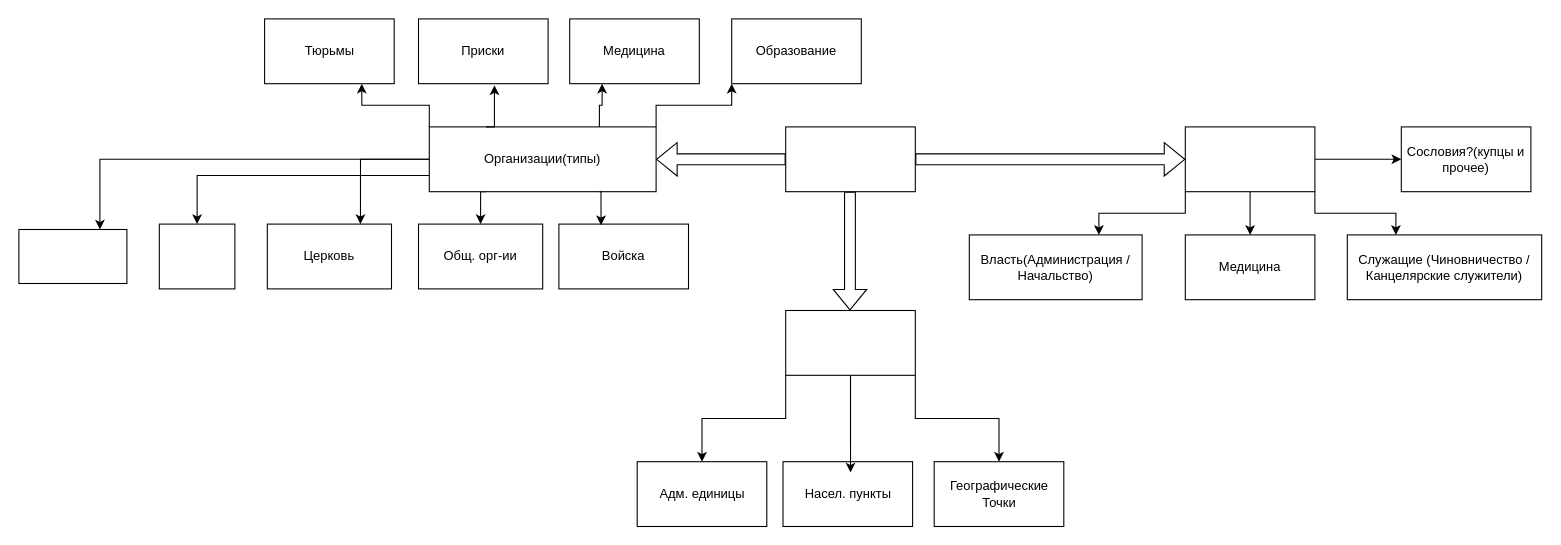
Image size: 1561x545. Some labels were removed from this diagram. Here are the shapes that lost their labels. From the top down, the box of each, then its label:
(785, 126, 915, 192): сущности
(1184, 126, 1315, 192): Люди(типы)
(18, 228, 127, 284): Гос. Органы
(158, 223, 235, 289): Пром-ть
(785, 309, 915, 375): Места(типы)
